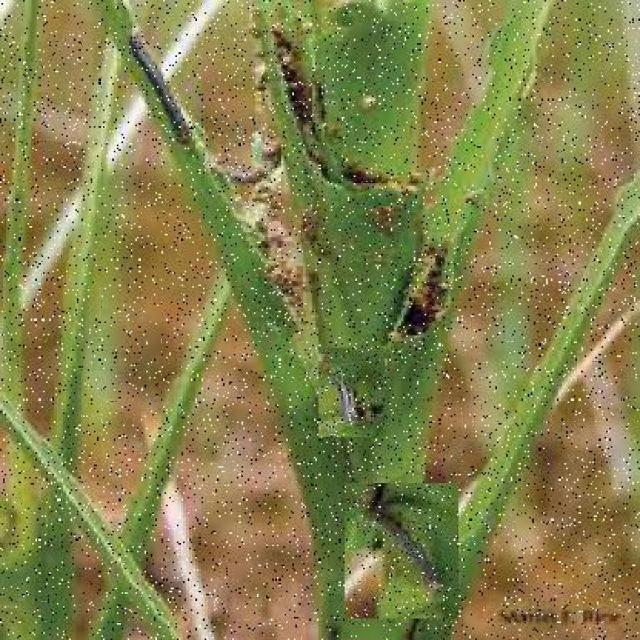Plaga: (344, 483, 461, 621), (120, 24, 206, 156), (312, 354, 392, 434)
